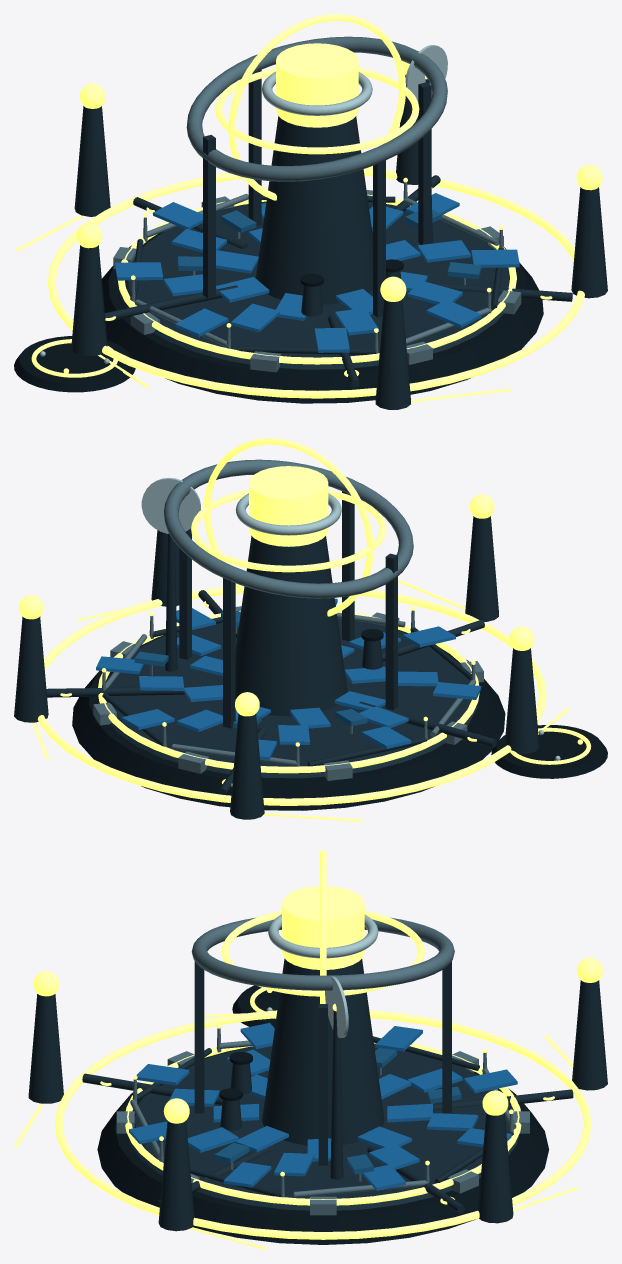
File: solarPlant-stage3.glb
3 renders of one model, top to bottom at view 1: azimuth 30°, elevation 25°; view 2: azimuth 150°, elevation 25°; view 3: azimuth 270°, elevation 25°, orthographic. The views are drawn at different scales.
Parts seen in each view (by area): view 1: upper-deck, receiver-tower, armored-foundation, power-crown, district-grid-2, plasma-receiver, landing-pad, perimeter-light, energy-pylon-2, energy-pylon-0, energy-pylon-1, energy-pylon-3 (+36 smaller); view 2: upper-deck, receiver-tower, armored-foundation, power-crown, district-grid-2, plasma-receiver, landing-pad, perimeter-light, energy-pylon-3, energy-pylon-2, energy-pylon-4, energy-pylon-1 (+33 smaller); view 3: upper-deck, receiver-tower, armored-foundation, district-grid-2, power-crown, plasma-receiver, perimeter-light, energy-pylon-0, energy-pylon-3, energy-pylon-4, energy-pylon-1, power-crown-field-y (+36 smaller).
Part boxes in pixels (left/top/right/bottom): upper-deck: left=120, top=202, right=509, bottom=369; receiver-tower: left=255, top=116, right=372, bottom=304; armored-foundation: left=101, top=201, right=543, bottom=403; power-crown: left=186, top=36, right=447, bottom=181; district-grid-2: left=47, top=169, right=584, bottom=398; plasma-receiver: left=276, top=43, right=358, bottom=127; landing-pad: left=14, top=336, right=135, bottom=392; perimeter-light: left=118, top=194, right=516, bottom=364; energy-pylon-2: left=71, top=245, right=107, bottom=356; energy-pylon-0: left=571, top=187, right=607, bottom=298; energy-pylon-1: left=375, top=299, right=410, bottom=409; energy-pylon-3: left=74, top=106, right=110, bottom=216; upper-deck: left=99, top=618, right=477, bottom=778; receiver-tower: left=235, top=535, right=347, bottom=716; armored-foundation: left=72, top=622, right=505, bottom=810; power-crown: left=164, top=459, right=413, bottom=598; district-grid-2: left=37, top=586, right=546, bottom=805; plasma-receiver: left=249, top=466, right=328, bottom=546; landing-pad: left=491, top=725, right=607, bottom=778; perimeter-light: left=98, top=610, right=479, bottom=773; energy-pylon-3: left=230, top=713, right=264, bottom=819; energy-pylon-2: left=504, top=648, right=539, bottom=754; energy-pylon-4: left=14, top=616, right=48, bottom=722; energy-pylon-1: left=465, top=516, right=498, bottom=621; upper-deck: left=127, top=1044, right=519, bottom=1210; receiver-tower: left=262, top=958, right=384, bottom=1145; armored-foundation: left=97, top=1043, right=548, bottom=1244; district-grid-2: left=55, top=1010, right=591, bottom=1239; power-crown: left=191, top=917, right=454, bottom=990; plasma-receiver: left=282, top=886, right=364, bottom=969; perimeter-light: left=125, top=1036, right=521, bottom=1205; energy-pylon-0: left=158, top=1120, right=194, bottom=1231; energy-pylon-3: left=572, top=980, right=607, bottom=1090; energy-pylon-4: left=478, top=1113, right=513, bottom=1223; energy-pylon-1: left=28, top=994, right=63, bottom=1103; power-crown-field-y: left=221, top=910, right=424, bottom=996.
Bounding box in the file's own units: 15.28 × 7.59 × 14.08.
